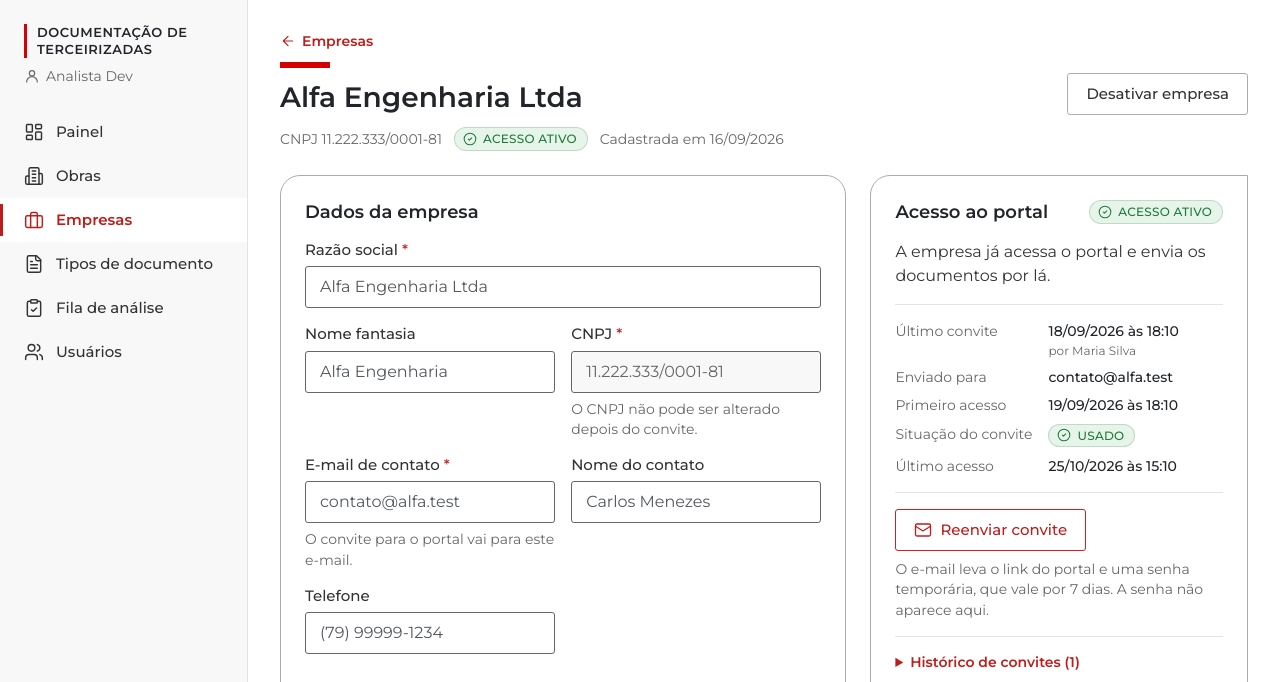
Test case: Detalhe da empresa — convite › reenviar pede confirmação avisando que a senha e o link anteriores deixam de valer
The width and height of the screenshot is (1280, 682).
Expected: the heading "Alfa Engenharia Ltda" is shown, [280,80,583,114]
Click the button "Reenviar convite" at (991, 530), box [895,509,1086,551]
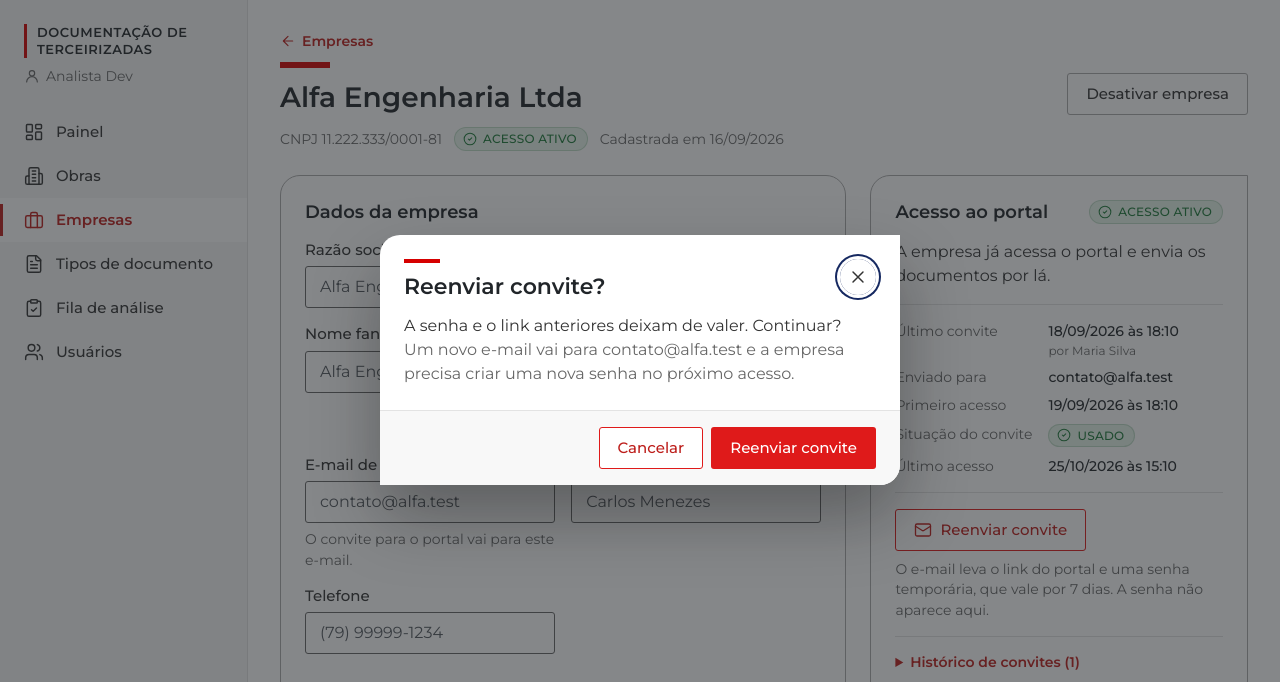
Expected: the dialog "Reenviar convite?" shows "A senha e o link anteriores deixam de valer. Continuar?", [404,316,842,335]
Click the button "Reenviar convite" at (794, 448), box [711,427,876,469]
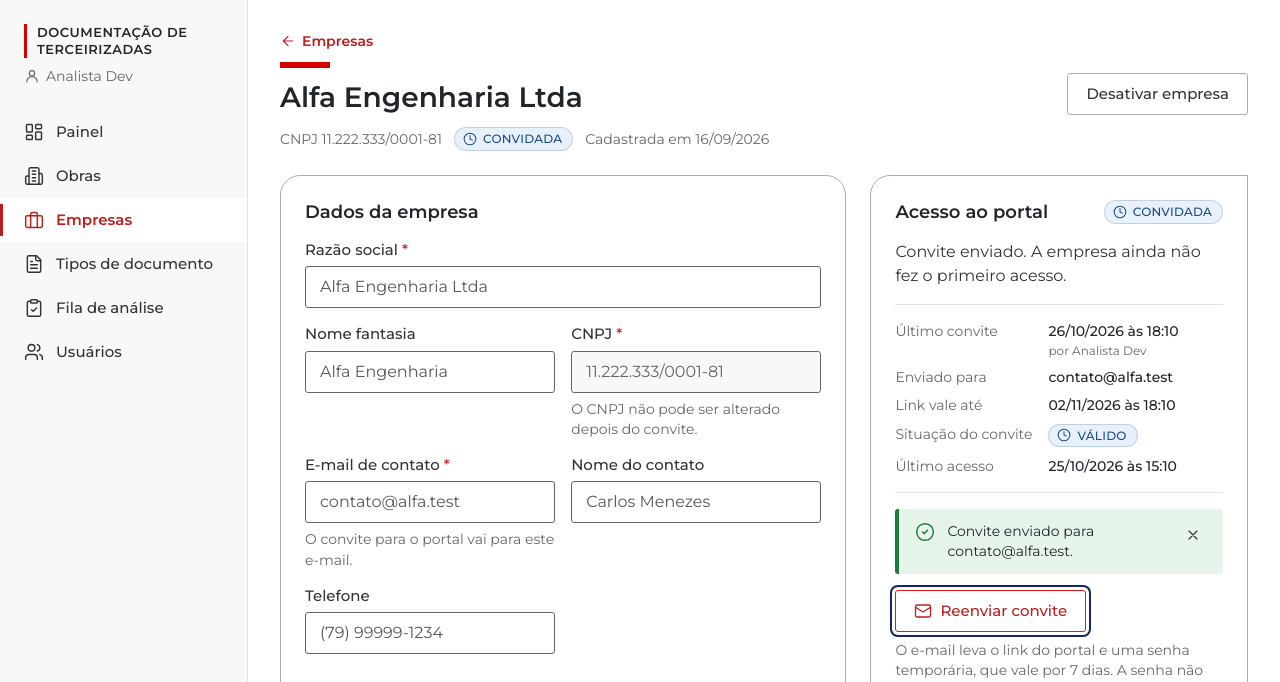
Expected: the dialog is gone
Expected: the text "Convidada" next to "Acesso ao portal" is shown, [1133,204,1212,219]
